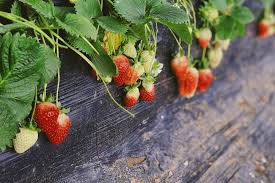ripe: (42, 111, 73, 145), (34, 99, 60, 130), (195, 67, 214, 95), (139, 82, 156, 103)
unripe: (11, 122, 38, 153), (179, 65, 199, 101), (111, 54, 128, 85), (171, 52, 189, 79), (213, 31, 232, 52), (125, 61, 140, 87), (124, 85, 140, 108), (196, 26, 211, 50), (207, 47, 222, 70), (258, 20, 273, 38)
